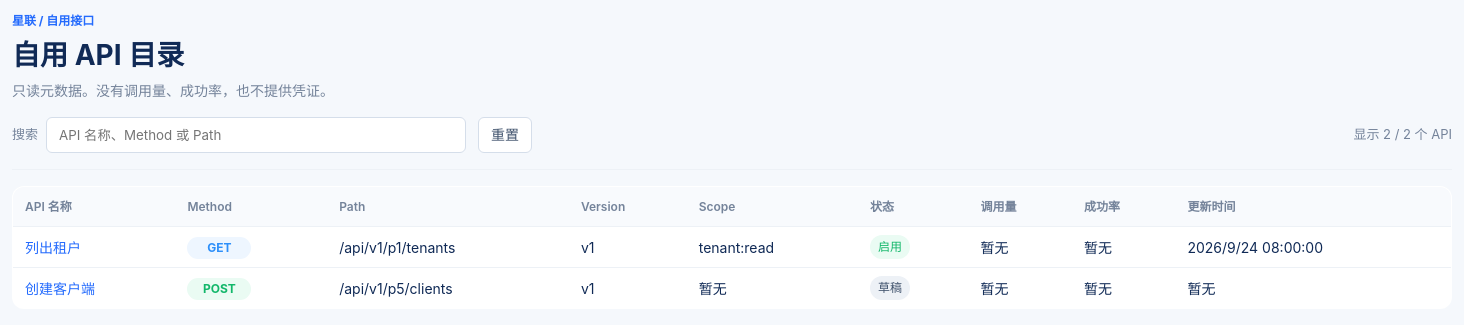
self-use API catalog page › lists metadata with method color and leaves volume and success rate empty
The width and height of the screenshot is (1464, 325).
Expected: the text "GET" is shown, [187, 236, 251, 258]
Expected: the text "POST" is shown, [187, 278, 251, 300]
Type "创建" into the search field named "搜索 API" at (256, 135), box [46, 117, 466, 153]
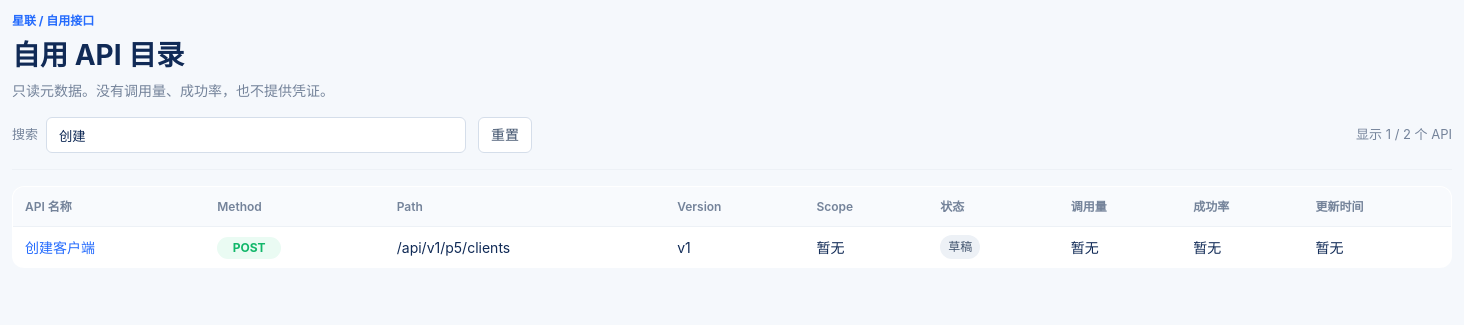
Expected: the text "显示 1 / 2 个 API" is shown, [1356, 125, 1452, 145]
